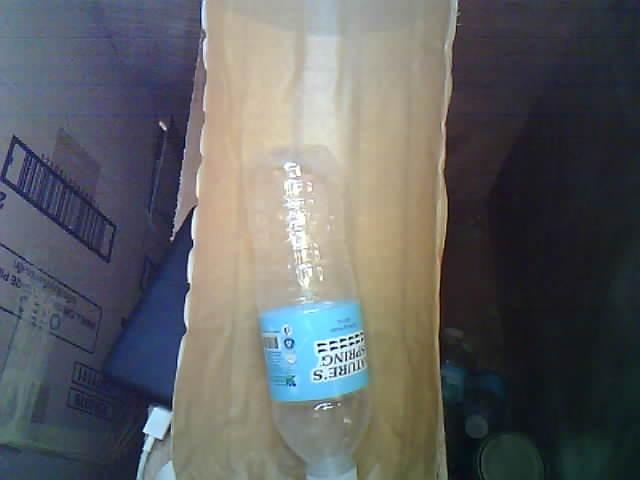small_bottle: (243, 153, 405, 475)
